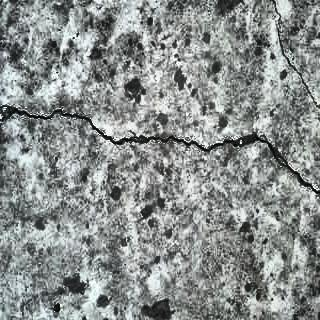crack: (1, 102, 320, 196)
